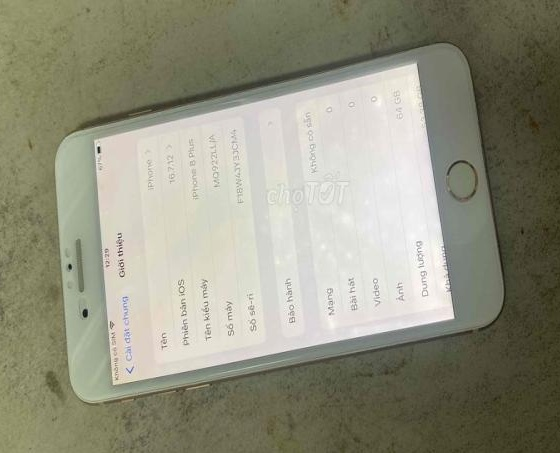scratch: (436, 165, 471, 212)
